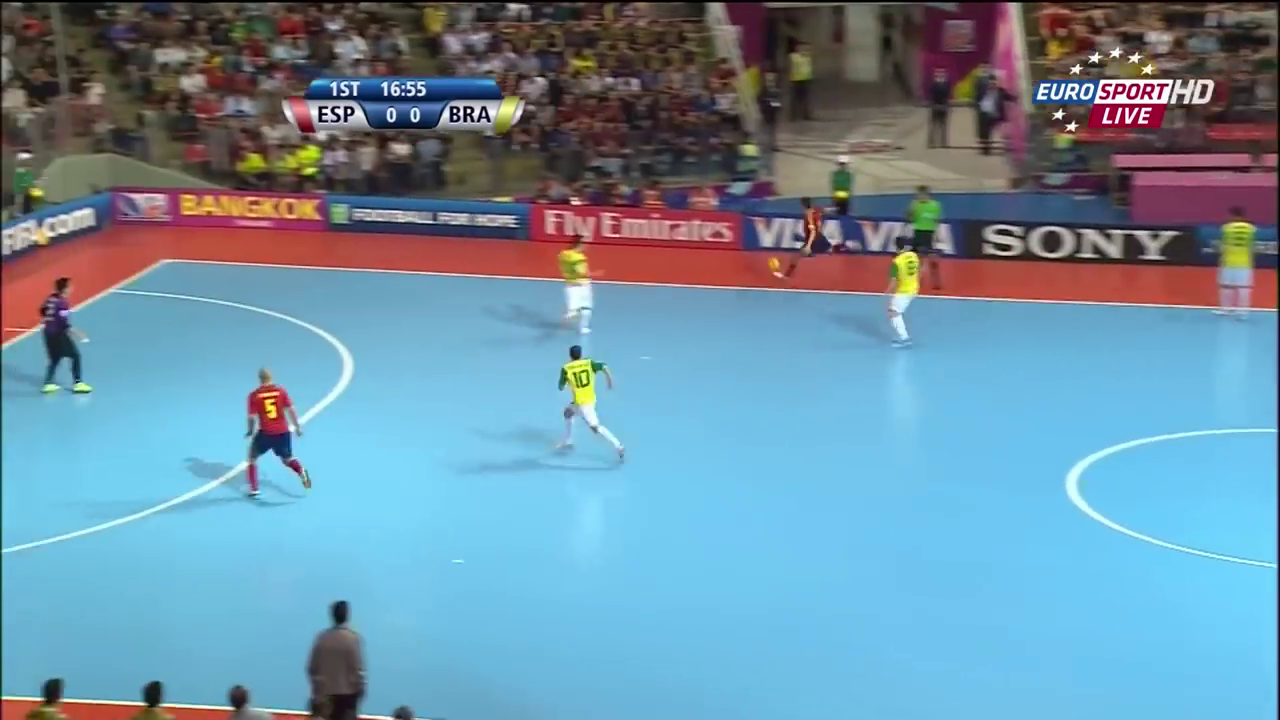ball: (765, 252, 781, 270)
person: (546, 345, 633, 467), (236, 370, 312, 498), (30, 279, 93, 393), (774, 197, 850, 280), (1209, 206, 1257, 327), (551, 234, 599, 332), (878, 238, 915, 346)
